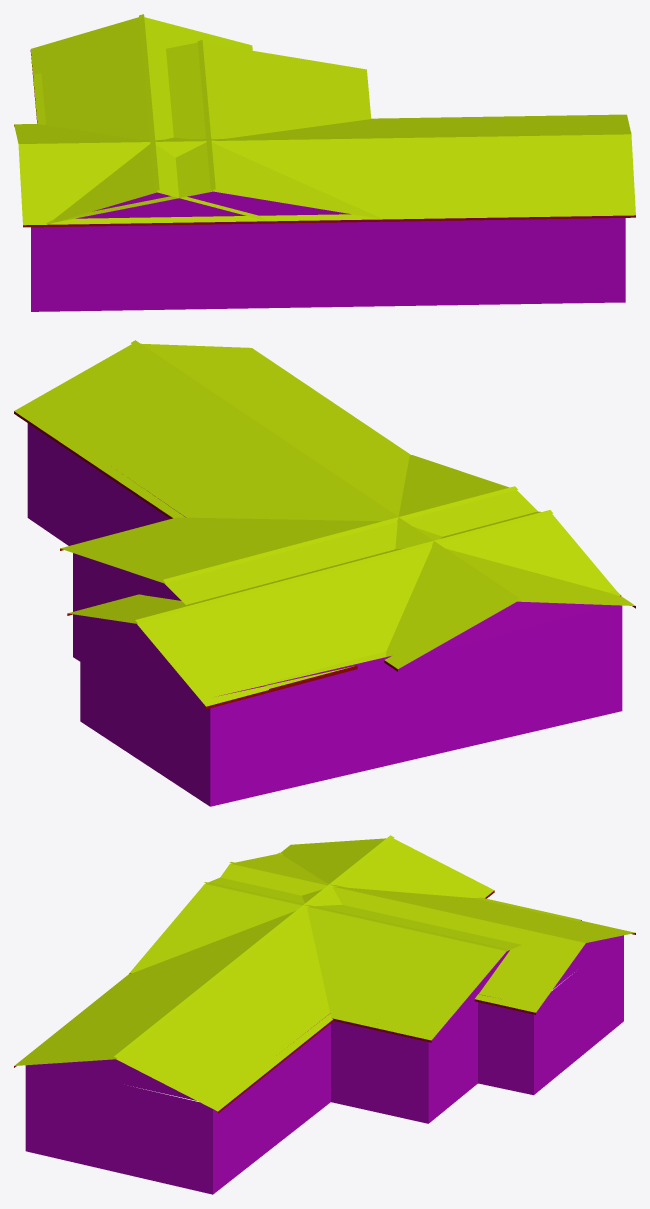
File: ssv_121.glb
3 renders of one model, top to bottom at view 1: azimuth 30°, elevation 25°; view 2: azimuth 150°, elevation 25°; view 3: azimuth 270°, elevation 25°, orthographic. The views are drawn at different scales.
Visible parts, largest first — view 1: ssv_121; view 2: ssv_121; view 3: ssv_121.
Boxes of the visible parts, x1=… form: ssv_121: x1=14, y1=14, x2=635, y2=311; ssv_121: x1=14, y1=340, x2=635, y2=806; ssv_121: x1=14, y1=835, x2=635, y2=1194.
Size of the model in its own units: 31.22 by 6.49 by 30.75.
